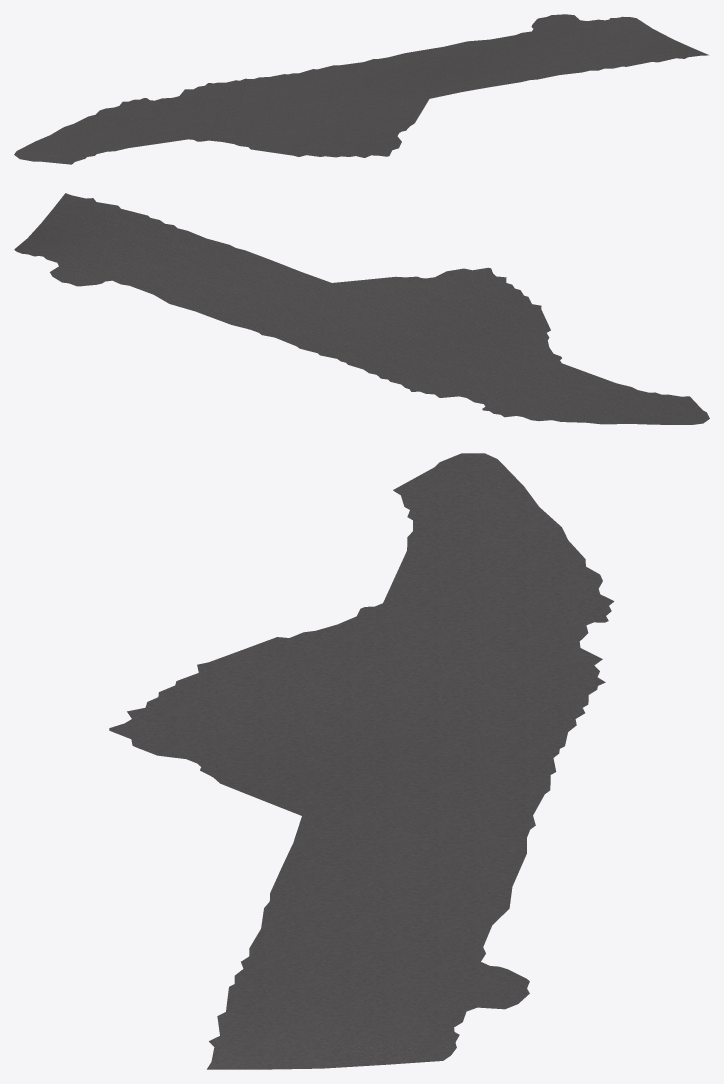
Rendered from road_02.glb.
3 renders of one model, top to bottom at view 1: azimuth 30°, elevation 25°; view 2: azimuth 150°, elevation 25°; view 3: azimuth 270°, elevation 25°, orthographic. The views are drawn at different scales.
Parts seen in each view (by area): view 1: road_02.surface; view 2: road_02.surface; view 3: road_02.surface.
Part boxes in pixels (box(x1,y1,x2,y2)): road_02.surface: box(14, 14, 708, 164); road_02.surface: box(14, 193, 709, 424); road_02.surface: box(109, 453, 614, 1069).
Size of the model in its own units: 49.51 by 0.547 by 17.3.
Materials: 1 (1 with a texture image).
